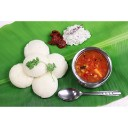idly: (8, 62, 35, 87), (33, 71, 58, 97), (23, 37, 49, 62), (47, 52, 70, 78), (23, 56, 48, 76)
